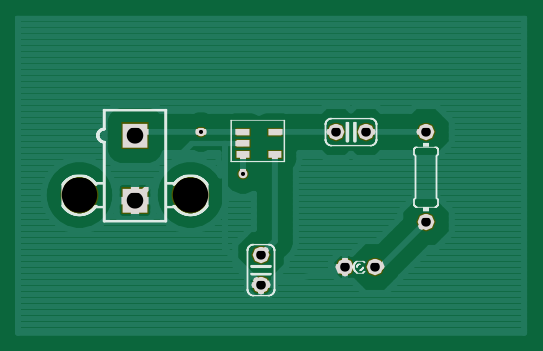LED: (335, 256, 385, 277)
capacitance: (245, 243, 276, 297), (324, 118, 377, 146)
power_supply: (60, 108, 209, 222)
regulation: (229, 119, 284, 161)
resistance: (413, 123, 439, 230)
